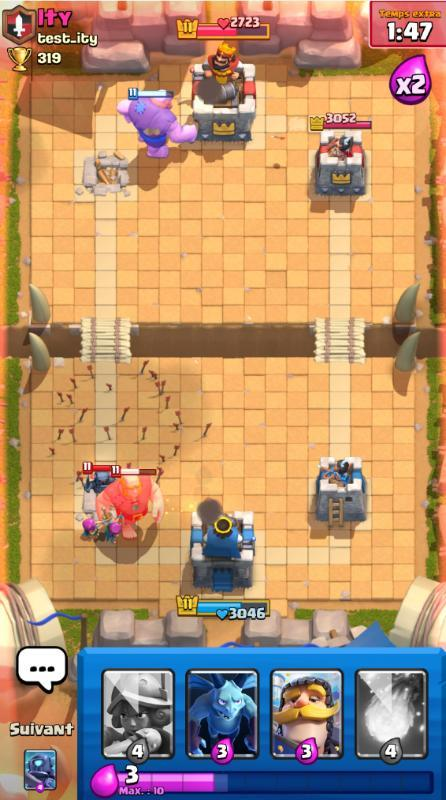archere: (105, 516, 125, 544), (80, 517, 106, 538)
geant: (117, 87, 198, 158), (96, 465, 165, 539)
mini_PEKKA: (80, 461, 118, 495)
